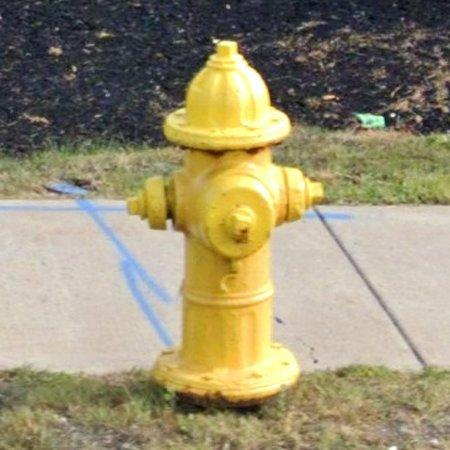a fire hydrant: (128, 40, 324, 405)
